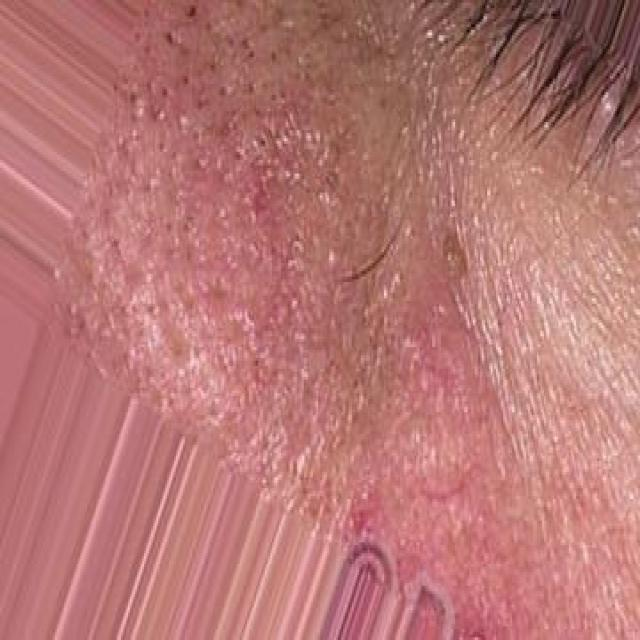Rosacea: (146, 113, 491, 494)
